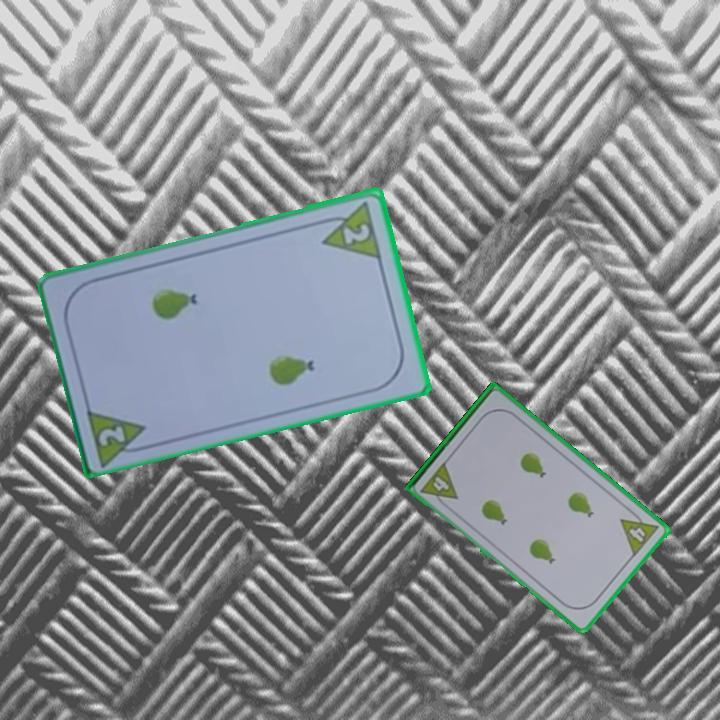2p: (314, 197, 385, 262), (94, 421, 129, 449)
4p: (617, 505, 662, 560), (417, 458, 461, 511)
